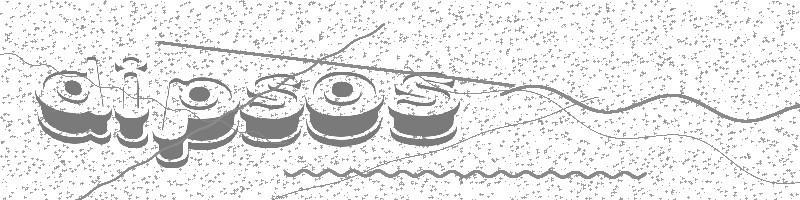d: (35, 58, 111, 144)
i: (115, 57, 149, 148)
o: (306, 70, 382, 147)
p: (153, 77, 238, 168)
s: (389, 72, 459, 146), (239, 74, 305, 148)
